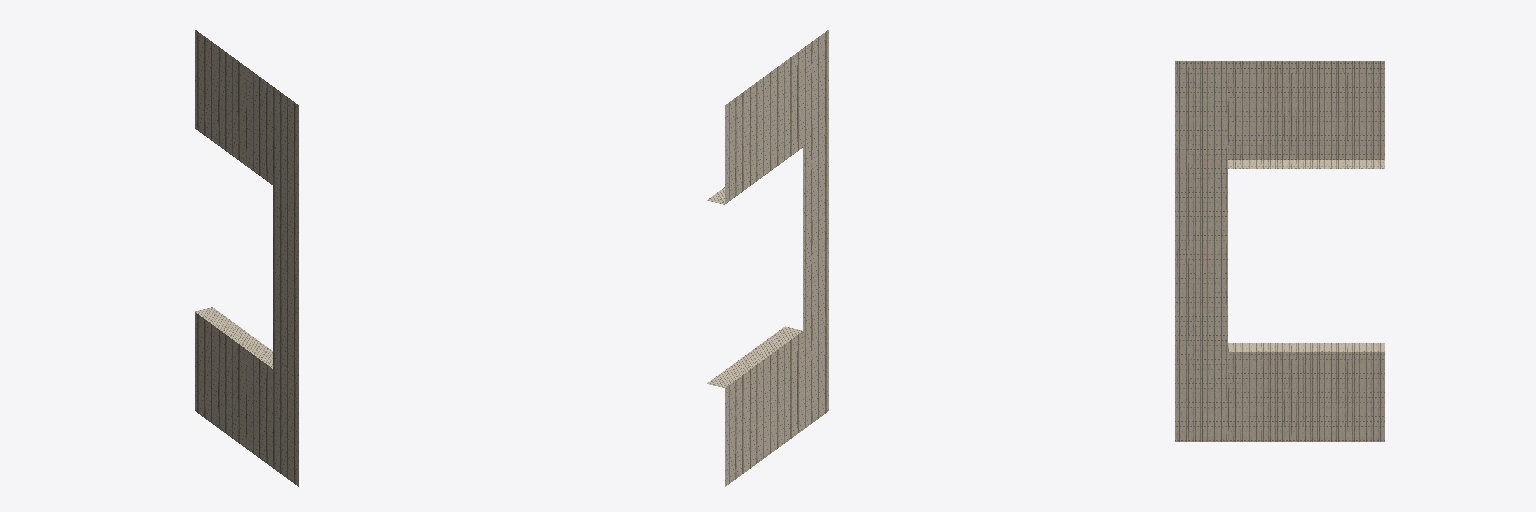
3 renders of one model, left to right at view 1: azimuth 30°, elevation 25°; view 2: azimuth 150°, elevation 25°; view 3: azimuth 270°, elevation 25°, orthographic.
Parts seen in each view (by area): view 1: Plane001; view 2: Plane001; view 3: Plane001.
Boxes of the visible parts, x1,y1,x2,y2 form: Plane001: [195, 30, 298, 486]; Plane001: [707, 30, 828, 486]; Plane001: [1175, 61, 1384, 441].
Size of the model in its own units: 20 by 402 by 200.
1 materials, 1 textured.